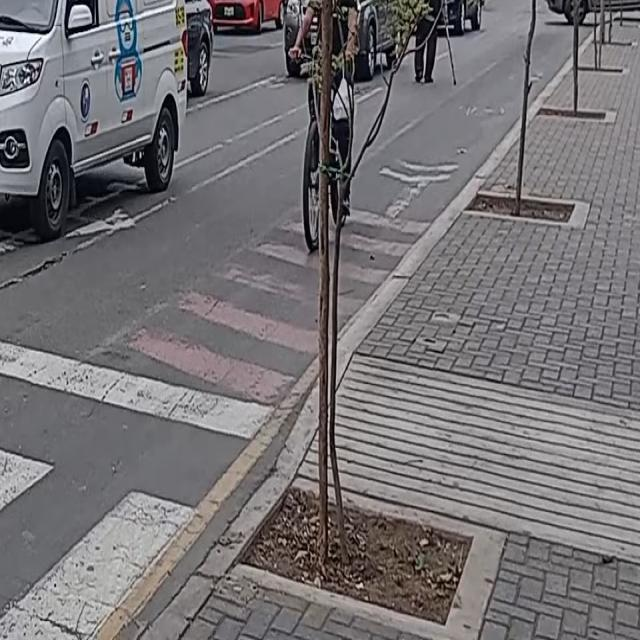bicycle: (300, 0, 361, 258)
car: (0, 0, 185, 231), (280, 0, 413, 84), (205, 0, 286, 37), (544, 0, 640, 31)
